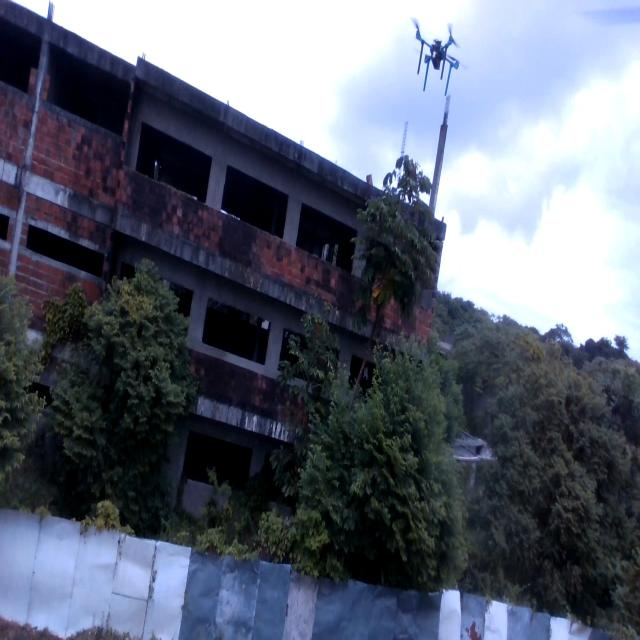-uav-: (403, 6, 476, 108)
